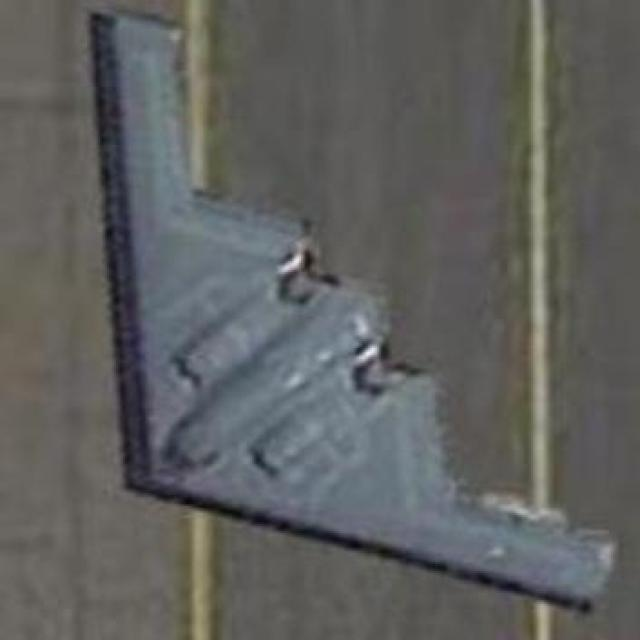B-2_TopDown: (84, 2, 618, 618)
